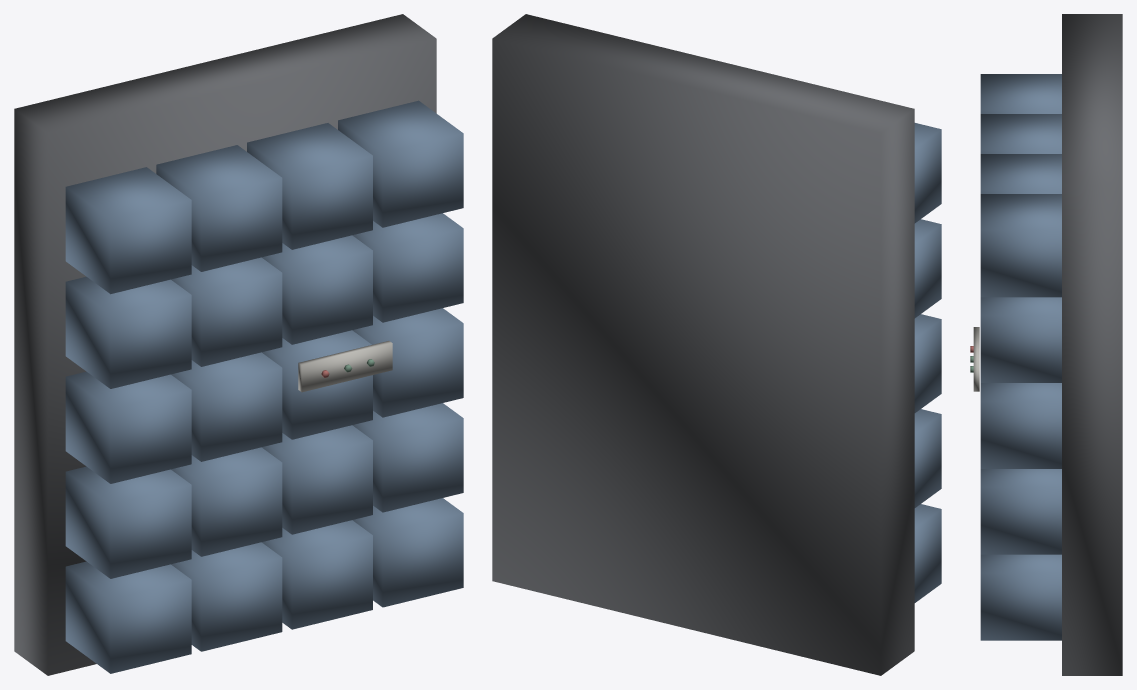
Rendered from parts_bin_rack.glb.
3 renders of one model, left to right at view 1: azimuth 30°, elevation 25°; view 2: azimuth 150°, elevation 25°; view 3: azimuth 270°, elevation 25°, orthographic. The views are drawn at different scales.
Visible parts, largest first — view 1: world; view 2: world; view 3: world.
Boxes of the visible parts, bbox=[...] form: world: bbox=[14, 14, 463, 675]; world: bbox=[492, 14, 941, 675]; world: bbox=[970, 14, 1122, 675].
Bounding box in the file's own units: 1.2 × 1.6 × 0.451.
